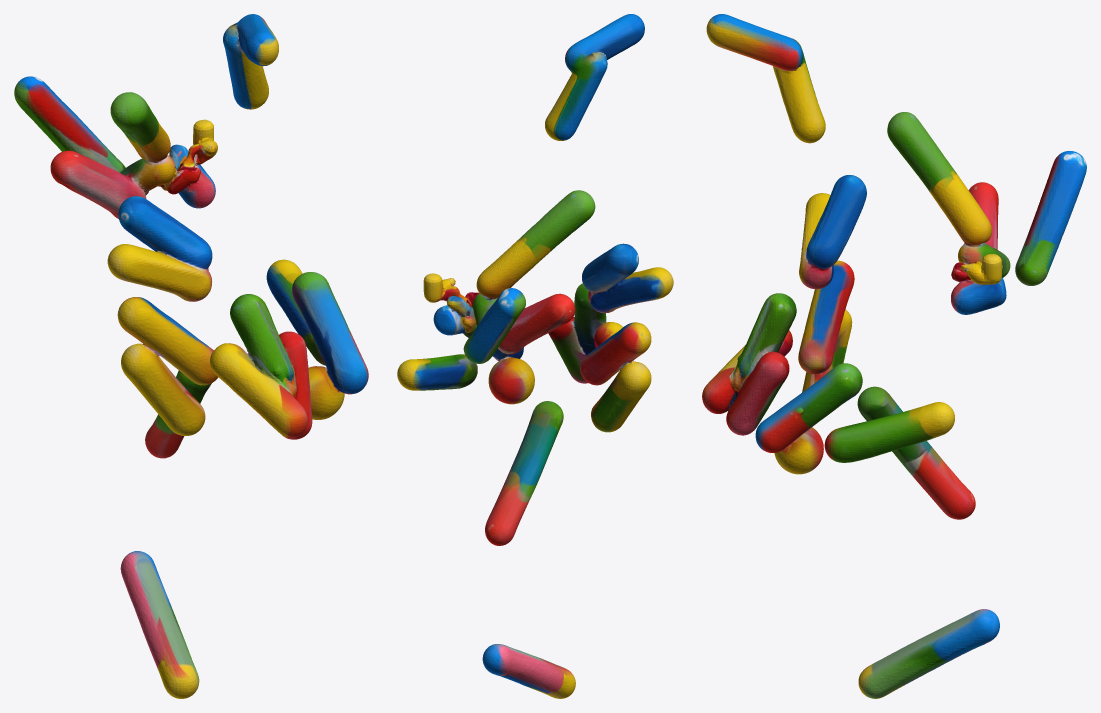
Rendered from topping_sprinkles.glb.
The picture shows the model from 3 angles, left to right: view 1: azimuth 30°, elevation 25°; view 2: azimuth 150°, elevation 25°; view 3: azimuth 270°, elevation 25°; orthographic projection. The views are drawn at different scales.
Parts seen in each view (by area): view 1: tripo_node_fa5a03cd-d9ed-4532-ab90-2c2a6ab076c5; view 2: tripo_node_fa5a03cd-d9ed-4532-ab90-2c2a6ab076c5; view 3: tripo_node_fa5a03cd-d9ed-4532-ab90-2c2a6ab076c5.
Boxes of the visible parts, x1,y1,x2,y2 form: tripo_node_fa5a03cd-d9ed-4532-ab90-2c2a6ab076c5: (14,14,368,698); tripo_node_fa5a03cd-d9ed-4532-ab90-2c2a6ab076c5: (397,14,673,698); tripo_node_fa5a03cd-d9ed-4532-ab90-2c2a6ab076c5: (702,14,1086,698).
Bounding box in the file's own units: 0.3625 × 1 × 0.5112.
Materials: 1 (1 with a texture image).
